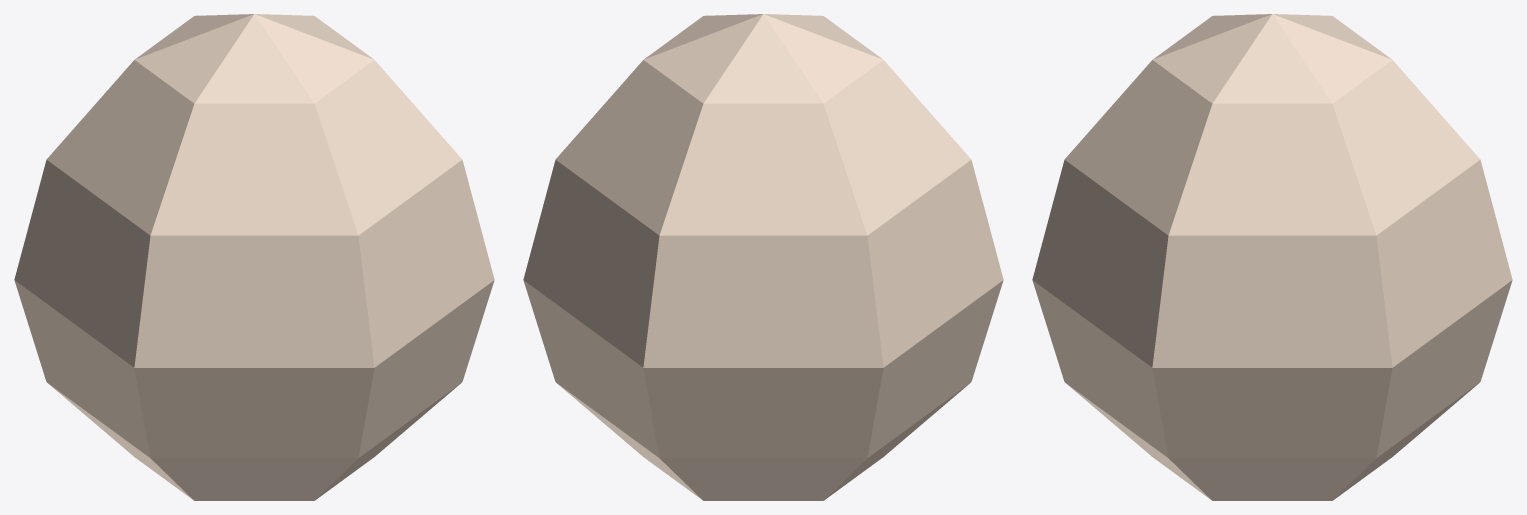
The model's file is food_egg.fbx.
The picture shows the model from 3 angles, left to right: view 1: azimuth 30°, elevation 25°; view 2: azimuth 150°, elevation 25°; view 3: azimuth 270°, elevation 25°; orthographic projection.
Visible parts, largest first — view 1: food_egg; view 2: food_egg; view 3: food_egg.
Boxes of the visible parts, x1=… form: food_egg: x1=14, y1=14, x2=494, y2=500; food_egg: x1=523, y1=14, x2=1003, y2=500; food_egg: x1=1032, y1=14, x2=1512, y2=500.
Bounding box in the file's own units: 160 × 200 × 185.
